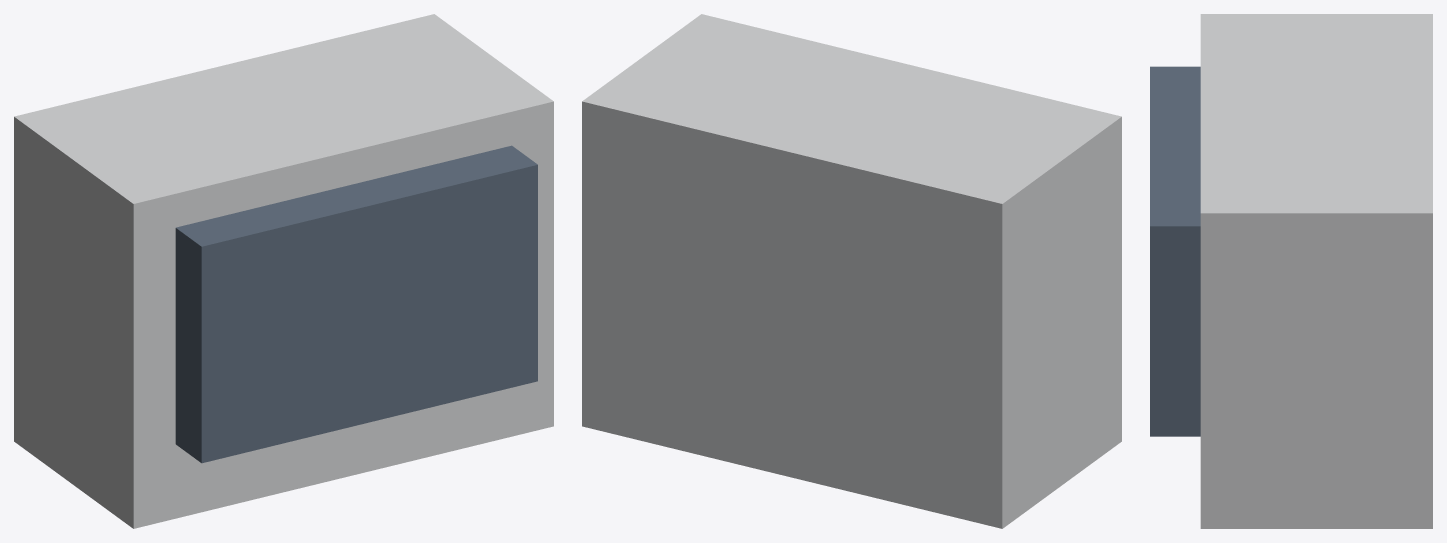
File: printer.glb
The picture shows the model from 3 angles, left to right: view 1: azimuth 30°, elevation 25°; view 2: azimuth 150°, elevation 25°; view 3: azimuth 270°, elevation 25°; orthographic projection. The views are drawn at different scales.
Parts seen in each view (by area): view 1: body, top; view 2: body; view 3: body, top.
Boxes of the visible parts, left/top/right/bottom form: body: left=14, top=14, right=553, bottom=528; top: left=175, top=145, right=537, bottom=463; body: left=582, top=14, right=1121, bottom=528; body: left=1200, top=14, right=1432, bottom=528; top: left=1150, top=66, right=1200, bottom=436.
Size of the model in its own units: 0.65 by 0.5 by 0.39.
